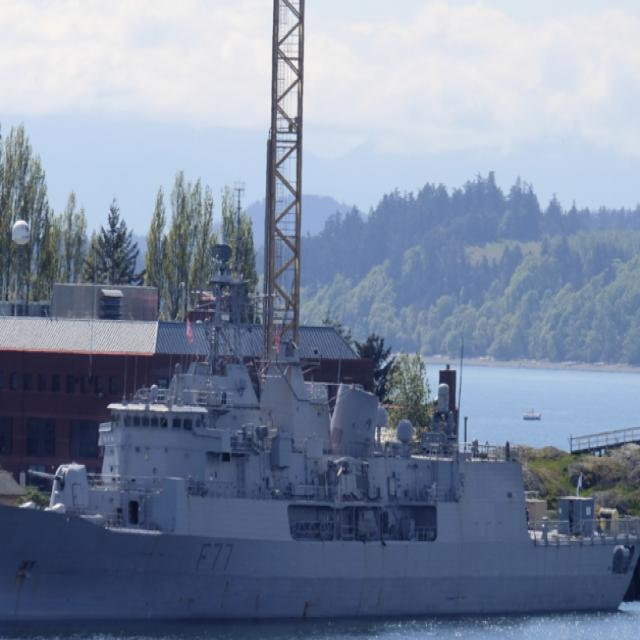Fragata: (1, 245, 640, 640)
